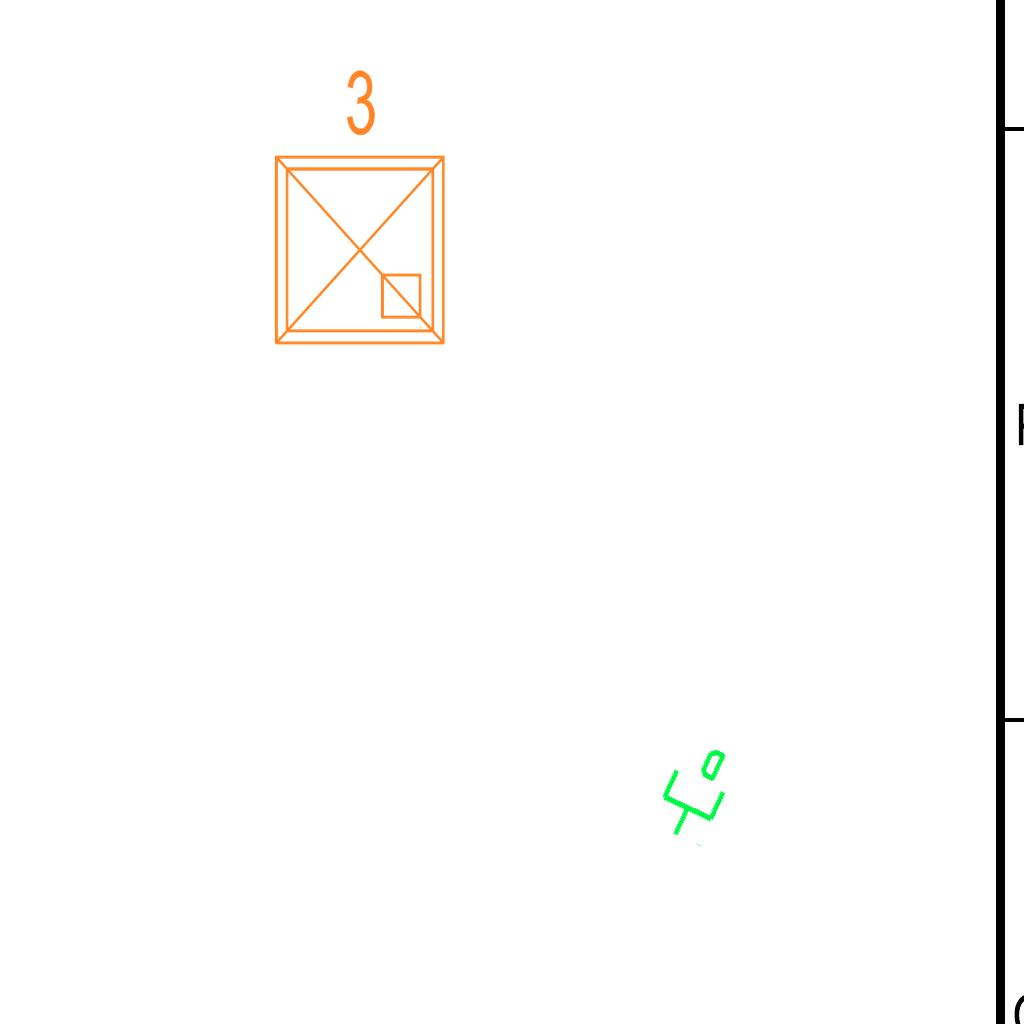Datenanschluss_einfach: (641, 731, 746, 851)
Einbaudownlights_LED_Konferenzraeume: (252, 59, 460, 359)
